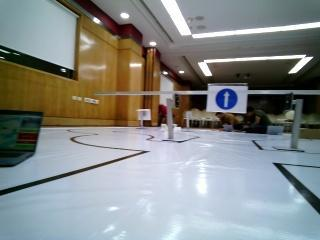straight: (207, 82, 250, 114)
